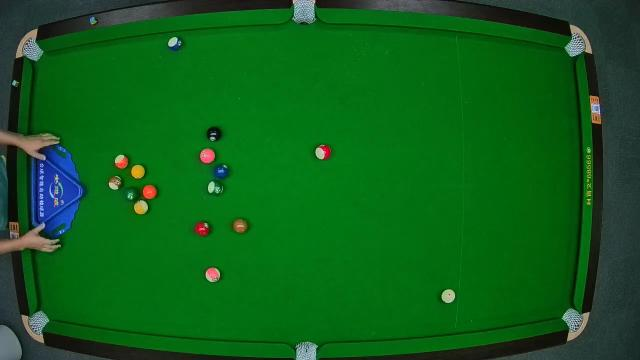bag1: (22, 39, 42, 61)
bag2: (292, 0, 318, 24)
bag3: (564, 33, 588, 55)
bag4: (27, 310, 48, 334)
bag5: (293, 340, 319, 360)
bag6: (562, 308, 582, 330)
ball0: (440, 288, 456, 304)
ball1: (130, 164, 146, 180)
ball10: (166, 36, 182, 52)
ball11: (314, 143, 331, 161)
ball12: (206, 267, 222, 283)
ball13: (114, 154, 128, 170)
ball14: (208, 181, 224, 197)
ball15: (107, 175, 123, 191)
ball2: (214, 164, 230, 178)
ball3: (193, 221, 211, 237)
ball4: (200, 148, 214, 164)
ball5: (142, 183, 158, 199)
ball6: (124, 186, 140, 202)
ball7: (232, 218, 248, 234)
ball8: (206, 128, 222, 142)
ball9: (134, 200, 150, 216)
